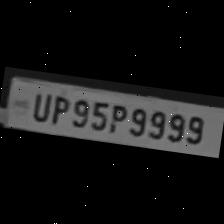5: (86, 96, 110, 132)
9: (125, 103, 150, 139), (67, 94, 91, 129), (145, 106, 169, 141), (163, 108, 186, 144), (182, 110, 206, 144)
P: (47, 91, 71, 126), (105, 98, 128, 134)
U: (27, 87, 52, 123)
